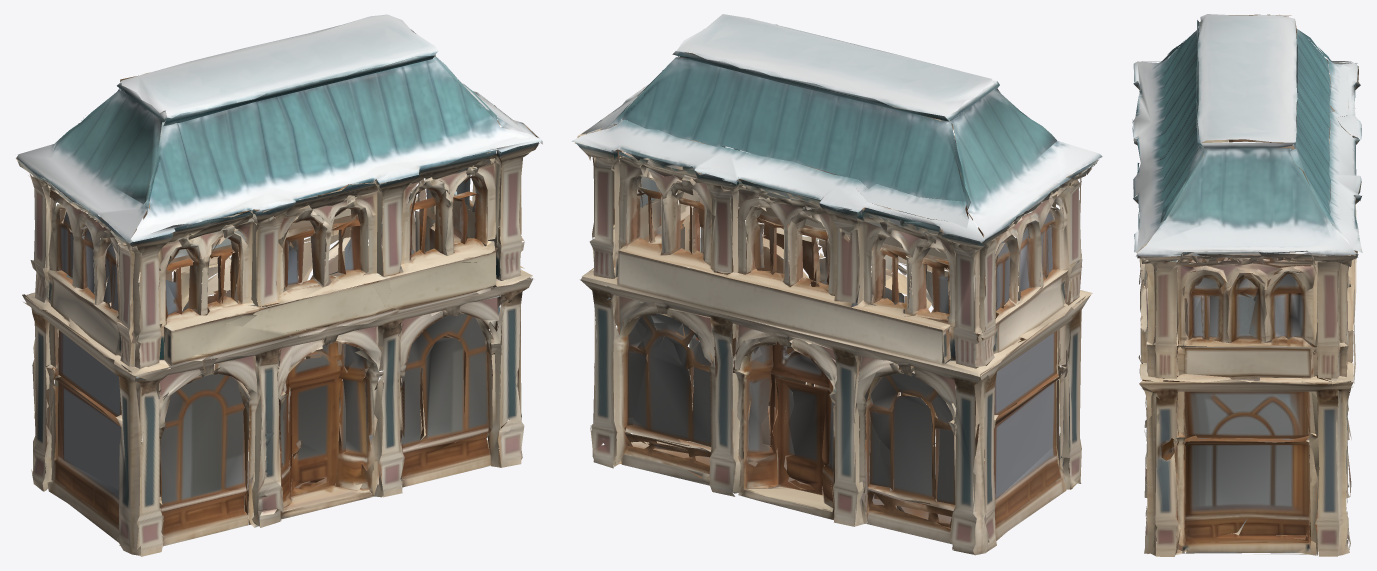
File: unified--detail--shopfront.glb
3 views of the same model, side by side, from view 1: azimuth 30°, elevation 25°; view 2: azimuth 150°, elevation 25°; view 3: azimuth 270°, elevation 25° (orthographic). The views are drawn at different scales.
Parts seen in each view (by area): view 1: shopfront-0; view 2: shopfront-0; view 3: shopfront-0.
Part boxes in pixels (x1,y1,x2,y2): shopfront-0: [15, 14, 542, 556]; shopfront-0: [571, 14, 1102, 555]; shopfront-0: [1132, 14, 1362, 556].
Bounding box in the file's own units: 1.21 × 1.14 × 0.6098.
1 material, 1 textured.
